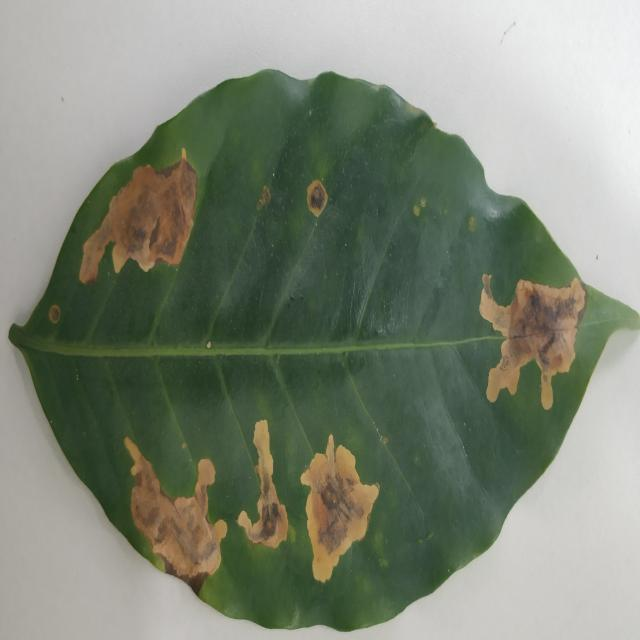Plaga-Minador: (9, 71, 640, 635)
